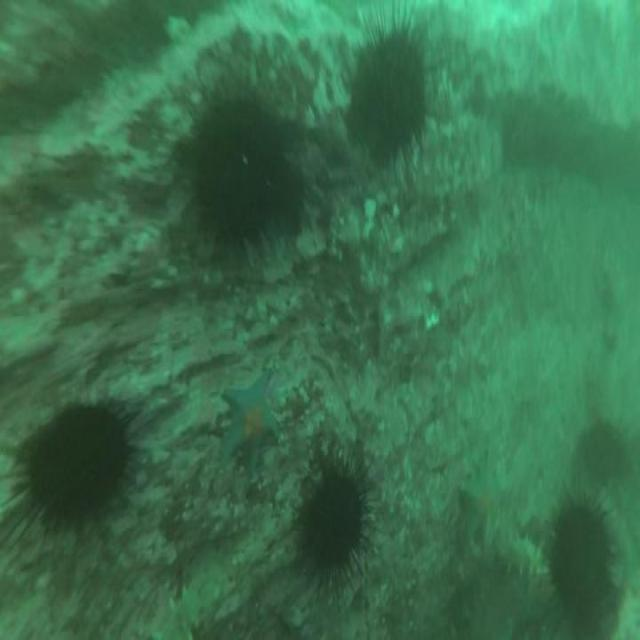echinus: (3, 389, 142, 569), (181, 86, 303, 270), (343, 3, 435, 174), (294, 441, 380, 596), (548, 490, 615, 626), (577, 411, 627, 493)
holothurian: (490, 517, 546, 591)
starfish: (213, 366, 283, 486)
